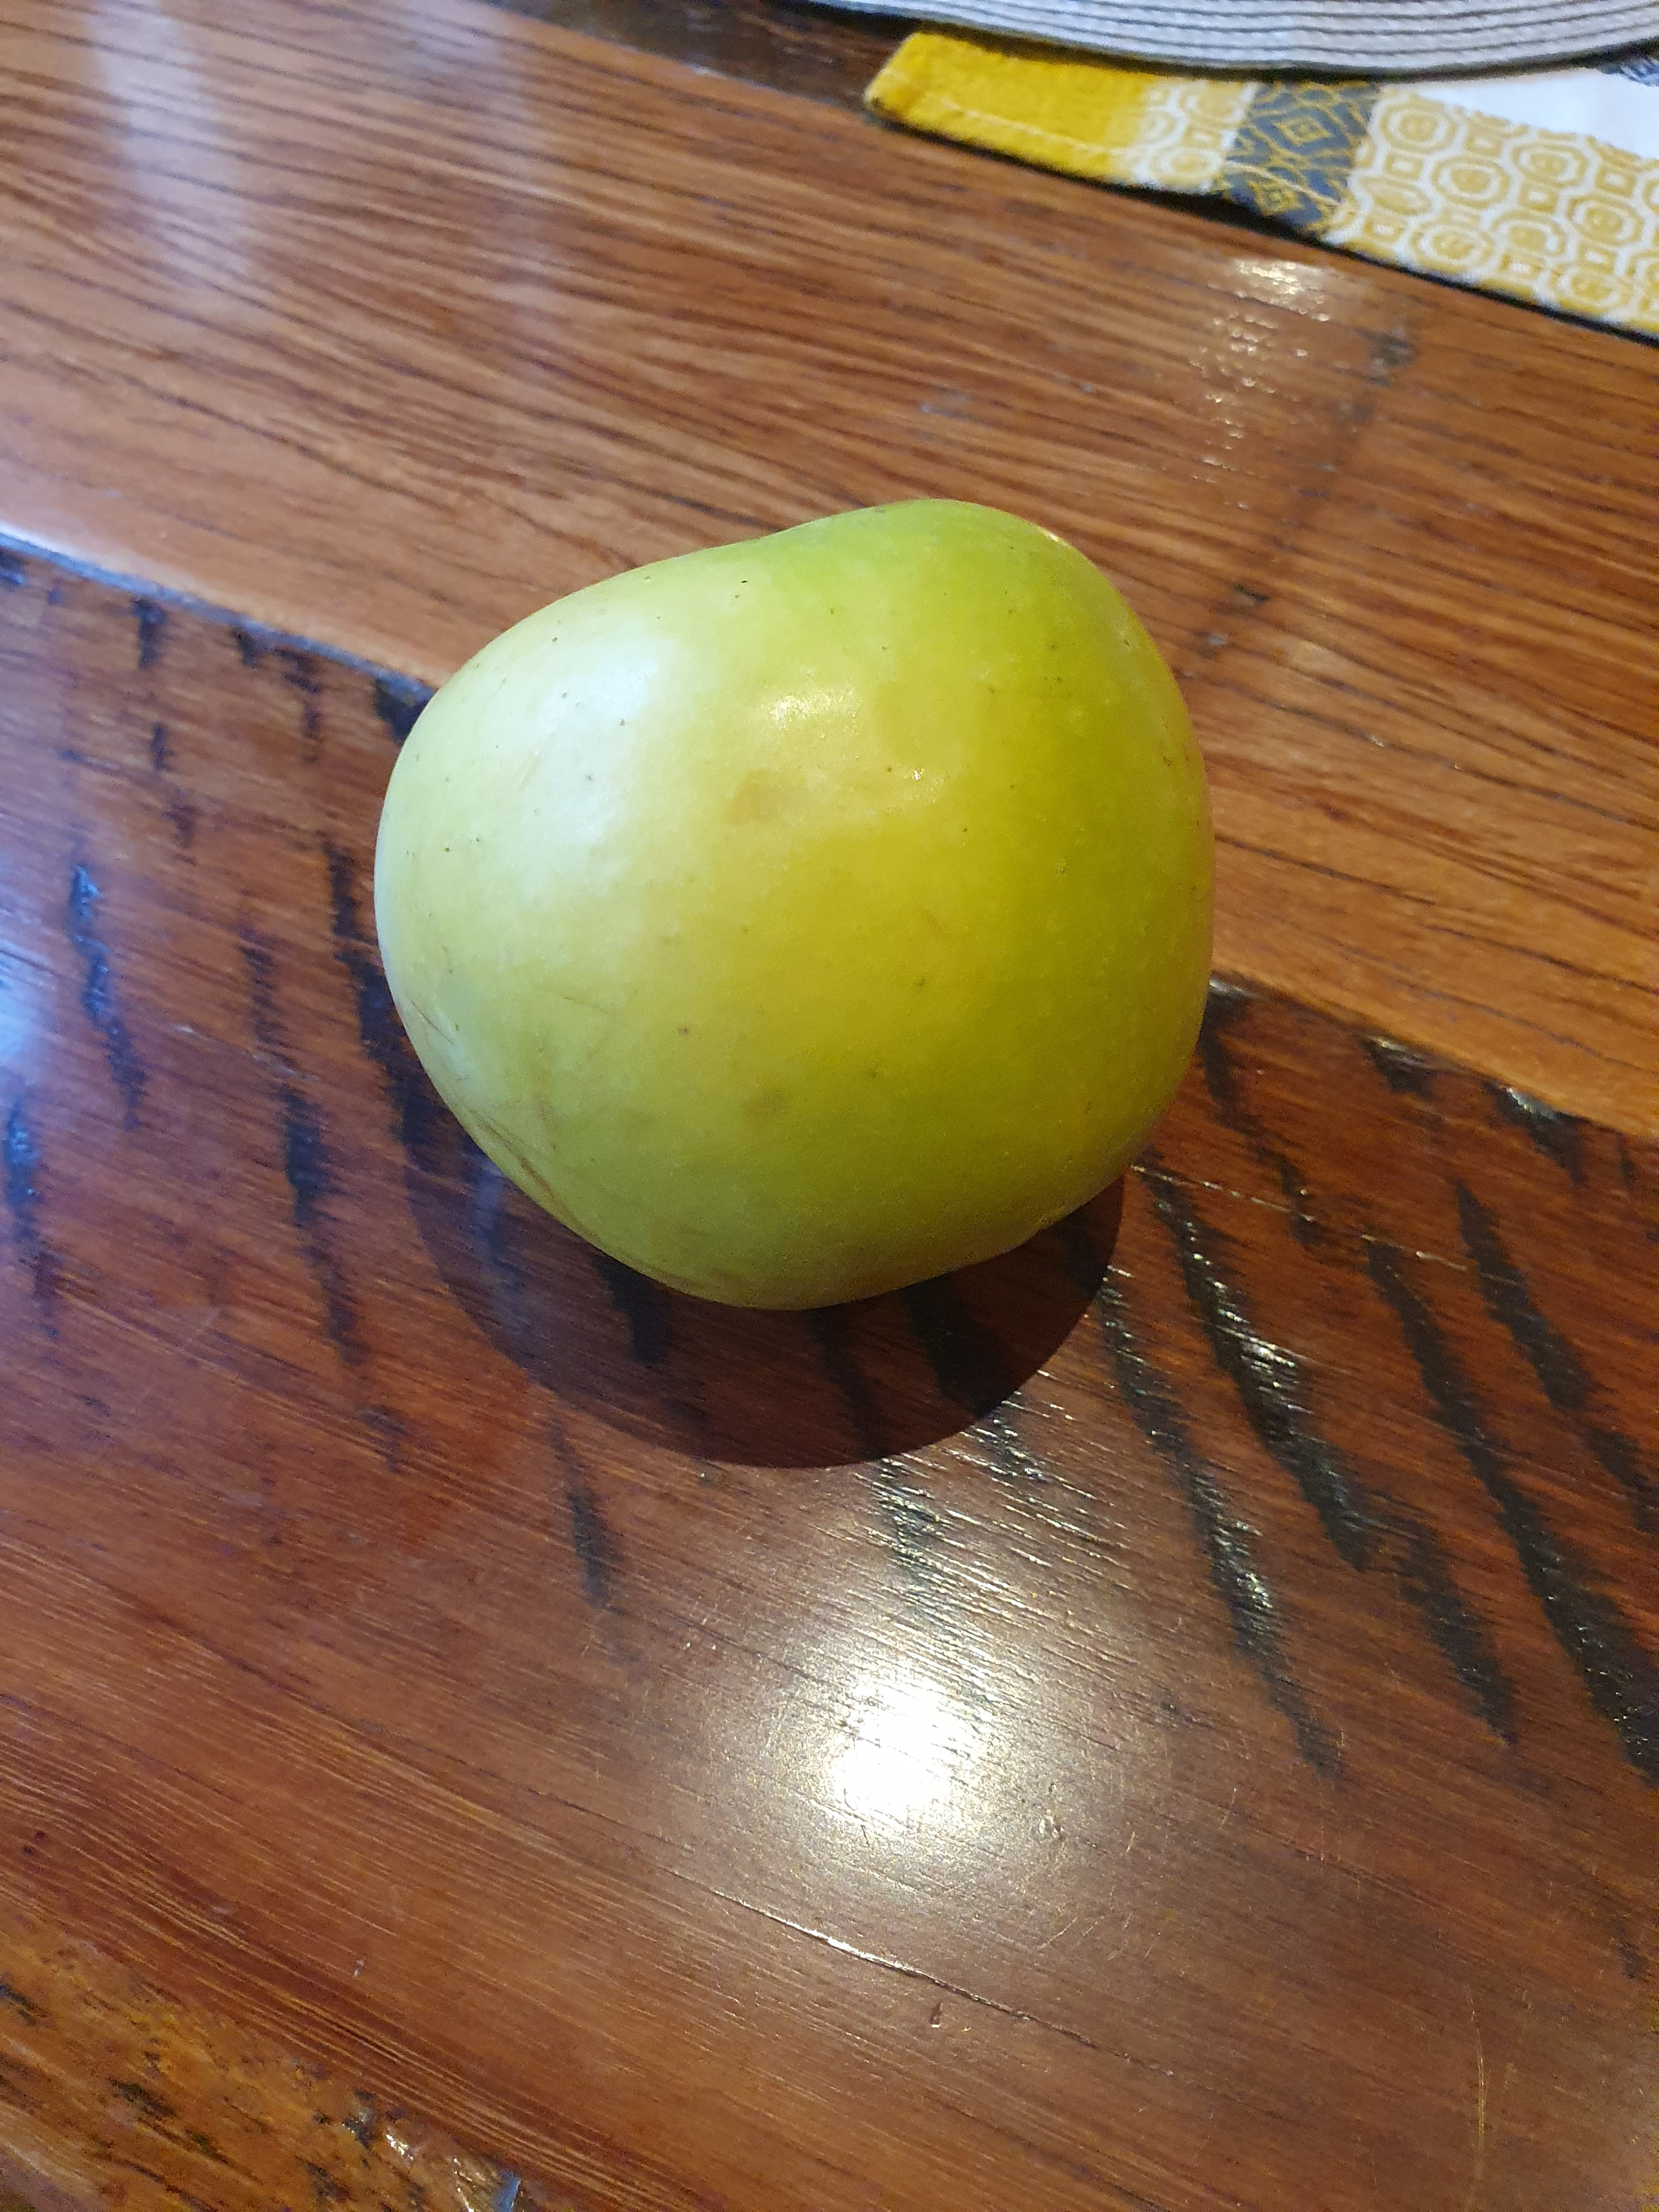green apple: (301, 467, 1258, 1367)
